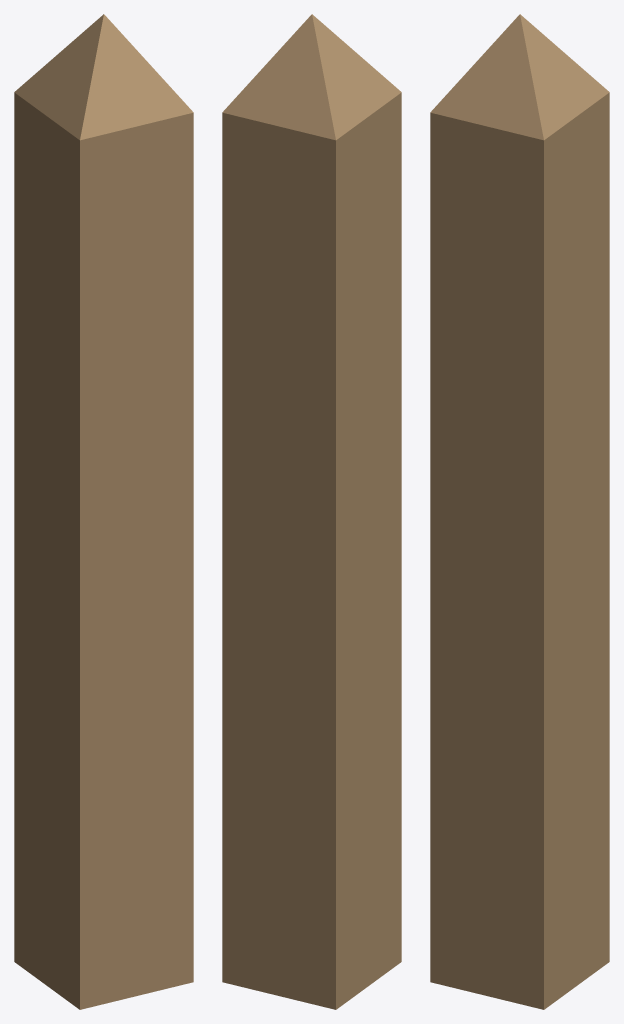
File: fence_end_post_01.glb
The picture shows the model from 3 angles, left to right: view 1: azimuth 30°, elevation 25°; view 2: azimuth 150°, elevation 25°; view 3: azimuth 330°, elevation 25°; orthographic projection.
Visible parts, largest first — view 1: Fence_end_post_01; view 2: Fence_end_post_01; view 3: Fence_end_post_01.
Boxes of the visible parts, <box> form: Fence_end_post_01: <box>14,14,193,1009</box>; Fence_end_post_01: <box>222,14,401,1009</box>; Fence_end_post_01: <box>430,14,609,1009</box>.
Size of the model in its own units: 0.14 by 1.13 by 0.14.
